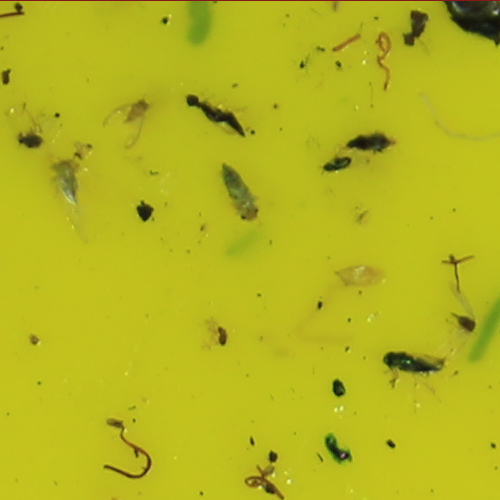Glycaspis: (221, 164, 260, 224)
Platyobria: (121, 97, 153, 120)
Psyllaephagus: (380, 349, 445, 373)
psylla: (453, 311, 475, 335)
